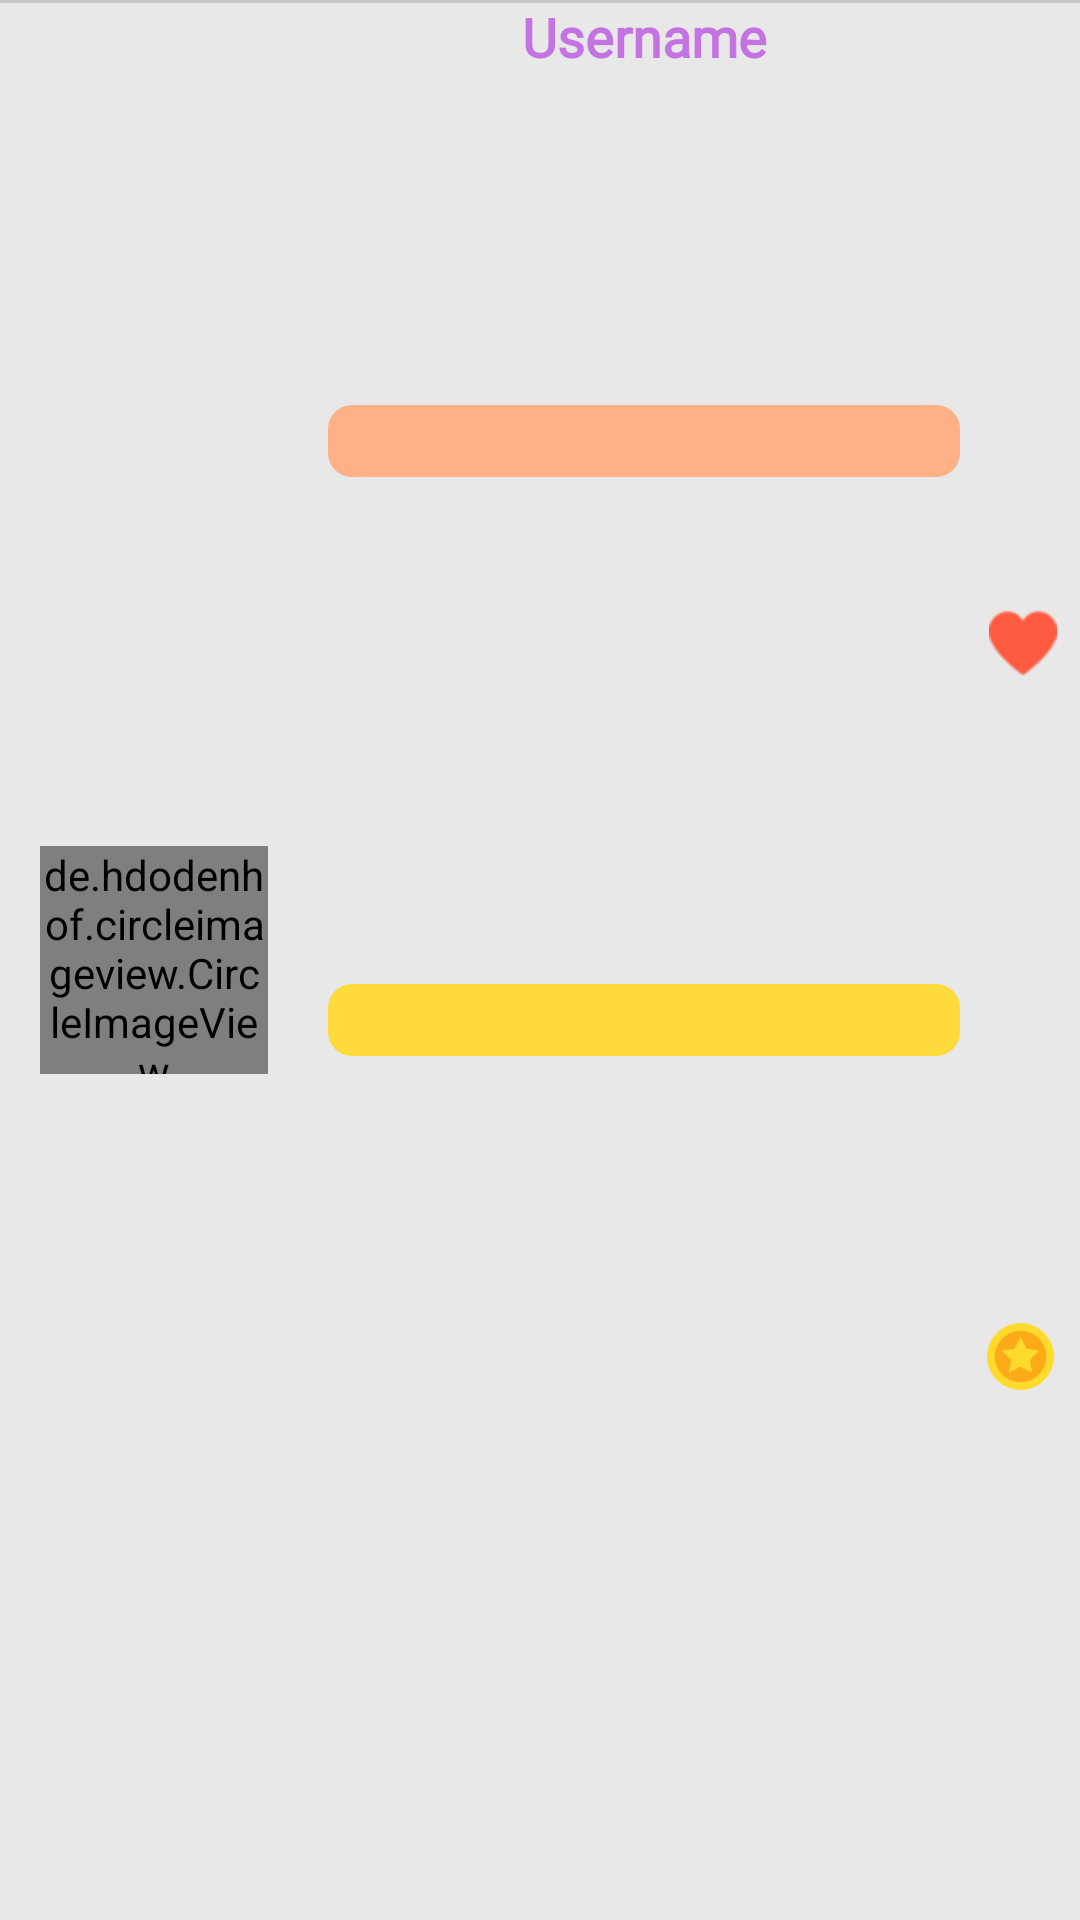

Locate icon controls on the screen. Image size 1080×1920, boxes as (x1, y1, x2, y2).
coin: (987, 1323, 1054, 1390)
